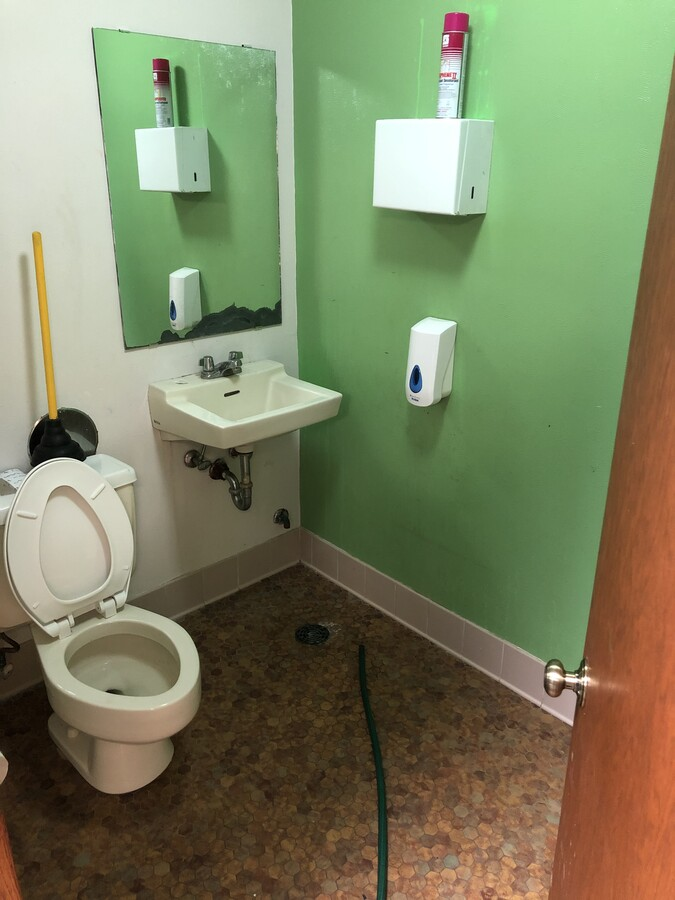dispenser: (405, 317, 453, 410), (159, 262, 206, 339)
door_handle: (542, 653, 584, 715)
faucet: (190, 346, 252, 389)
sink: (147, 344, 359, 459)
toilet: (1, 455, 212, 782)
